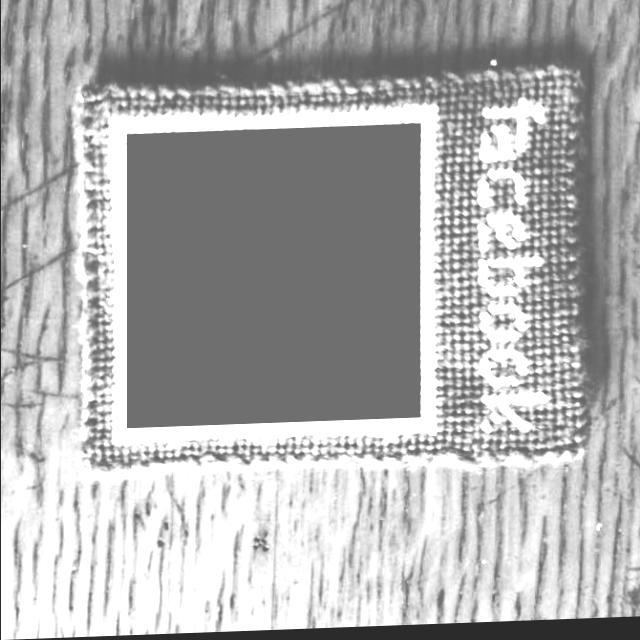qr_code: (126, 126, 420, 430)
